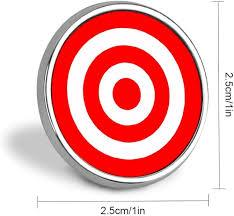target_red: (36, 0, 209, 189)
